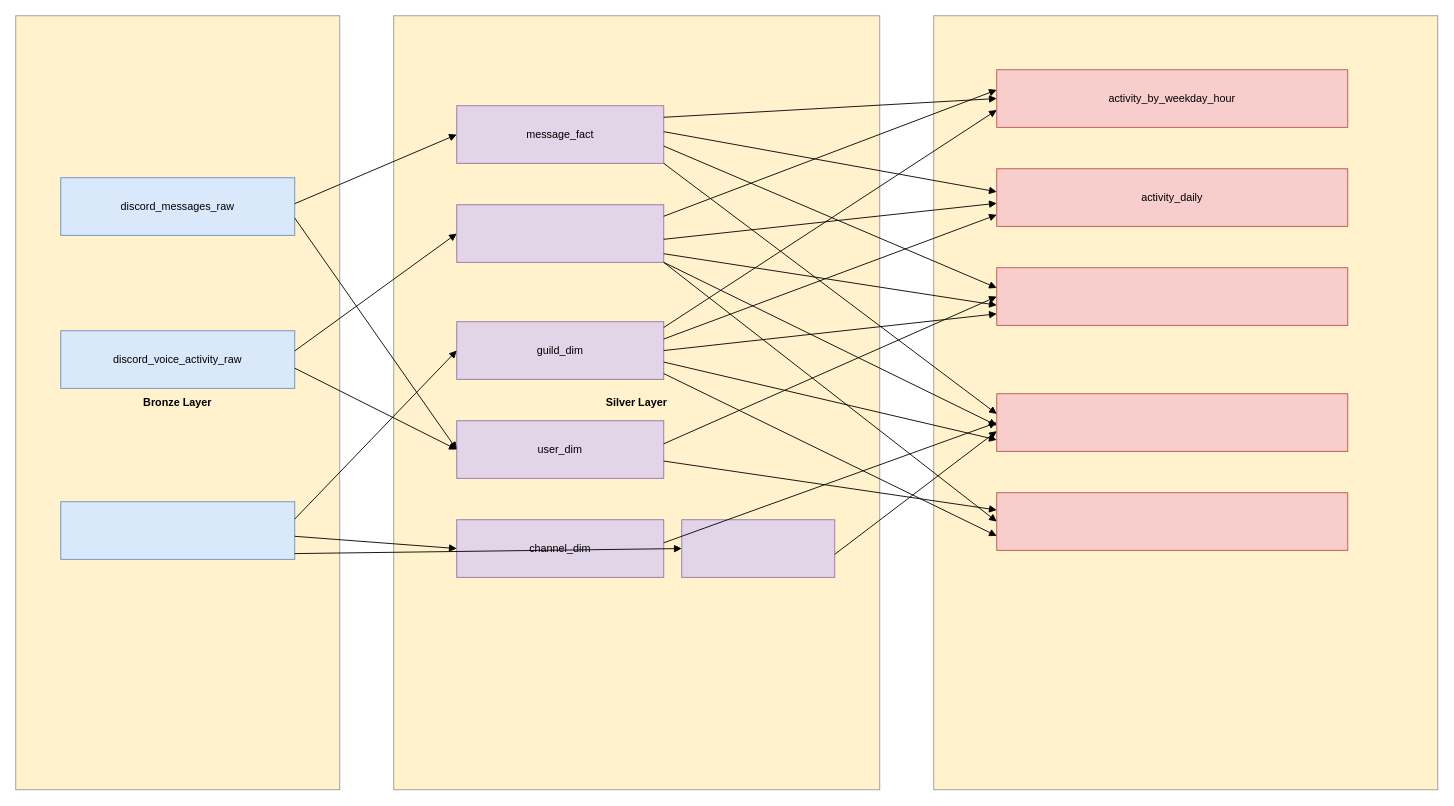
This 1454x806 diagram has some shape labels left out. The centre of each missing label's shape, as x and y in pixels:
"category_dim" belongs at point (758, 548).
"channel_activity" belongs at point (1172, 422).
"discord_channels_raw" belongs at point (177, 530).
"user_activity" belongs at point (1172, 296).
"user_voice_summary" belongs at point (1172, 521).
"voice_chat_fact" belongs at point (560, 233).
